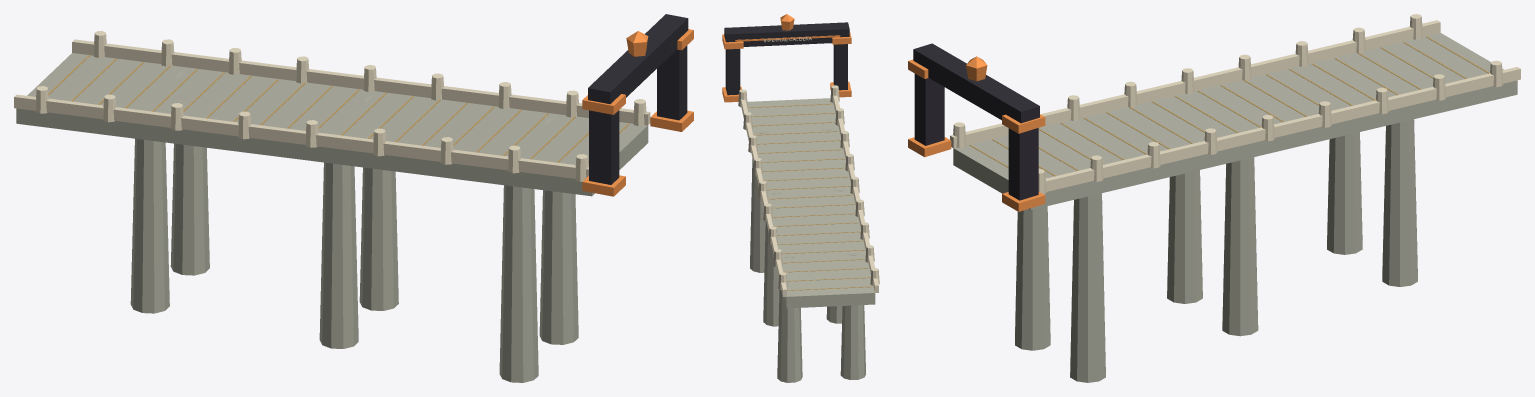
Rendered from Branch_InfernalCaldera.glb.
3 views of the same model, side by side, from view 1: azimuth 30°, elevation 25°; view 2: azimuth 150°, elevation 25°; view 3: azimuth 270°, elevation 25° (orthographic). The views are drawn at different scales.
Visible parts, largest first — view 1: Branch_InfernalCaldera_Sanctuary limestone_1_-2, Branch_InfernalCaldera_Warm ivory_1_-2, Branch_InfernalCaldera_Sanctuary limestone_1_-3, Branch_InfernalCaldera_InfernalCaldera_dark_1_-3, Branch_InfernalCaldera_InfernalCaldera_accent_1_-3, Branch_InfernalCaldera_Aged gold_1_-2, Branch_InfernalCaldera_Warm ivory_1_-3, Branch_InfernalCaldera_Warm ivory_0_-2, Branch_InfernalCaldera_Aged gold_1_-3; view 2: Branch_InfernalCaldera_Sanctuary limestone_1_-2, Branch_InfernalCaldera_InfernalCaldera_dark_1_-3, Branch_InfernalCaldera_Warm ivory_1_-2, Branch_InfernalCaldera_Aged gold_1_-2, Branch_InfernalCaldera_Sanctuary limestone_1_-3, Branch_InfernalCaldera_InfernalCaldera_accent_1_-3, Branch_InfernalCaldera_Warm ivory_1_-3, Branch_InfernalCaldera_Aged gold_1_-3, Branch_InfernalCaldera_Warm ivory_0_-2; view 3: Branch_InfernalCaldera_Sanctuary limestone_1_-2, Branch_InfernalCaldera_Warm ivory_1_-2, Branch_InfernalCaldera_Sanctuary limestone_1_-3, Branch_InfernalCaldera_InfernalCaldera_dark_1_-3, Branch_InfernalCaldera_InfernalCaldera_accent_1_-3, Branch_InfernalCaldera_Aged gold_1_-2, Branch_InfernalCaldera_Warm ivory_1_-3, Branch_InfernalCaldera_Aged gold_1_-3, Branch_InfernalCaldera_Warm ivory_0_-2.
Part boxes in pixels (x1=…): Branch_InfernalCaldera_Sanctuary limestone_1_-2: x1=16, y1=53, x2=648, y2=348; Branch_InfernalCaldera_Warm ivory_1_-2: x1=14, y1=31, x2=650, y2=178; Branch_InfernalCaldera_Sanctuary limestone_1_-3: x1=499, y1=117, x2=578, y2=382; Branch_InfernalCaldera_InfernalCaldera_dark_1_-3: x1=588, y1=14, x2=688, y2=184; Branch_InfernalCaldera_InfernalCaldera_accent_1_-3: x1=582, y1=29, x2=693, y2=196; Branch_InfernalCaldera_Aged gold_1_-2: x1=71, y1=59, x2=467, y2=145; Branch_InfernalCaldera_Warm ivory_1_-3: x1=440, y1=90, x2=646, y2=181; Branch_InfernalCaldera_Warm ivory_0_-2: x1=35, y1=86, x2=115, y2=122; Branch_InfernalCaldera_Aged gold_1_-3: x1=453, y1=106, x2=629, y2=162; Branch_InfernalCaldera_Sanctuary limestone_1_-2: x1=747, y1=98, x2=875, y2=382; Branch_InfernalCaldera_InfernalCaldera_dark_1_-3: x1=724, y1=22, x2=849, y2=95; Branch_InfernalCaldera_Warm ivory_1_-2: x1=741, y1=95, x2=878, y2=296; Branch_InfernalCaldera_Aged gold_1_-2: x1=762, y1=158, x2=870, y2=281; Branch_InfernalCaldera_Sanctuary limestone_1_-3: x1=750, y1=128, x2=832, y2=272; Branch_InfernalCaldera_InfernalCaldera_accent_1_-3: x1=722, y1=14, x2=851, y2=102; Branch_InfernalCaldera_Warm ivory_1_-3: x1=738, y1=37, x2=849, y2=148; Branch_InfernalCaldera_Aged gold_1_-3: x1=747, y1=103, x2=842, y2=153; Branch_InfernalCaldera_Warm ivory_0_-2: x1=865, y1=245, x2=879, y2=285; Branch_InfernalCaldera_Sanctuary limestone_1_-2: x1=953, y1=33, x2=1517, y2=336; Branch_InfernalCaldera_Warm ivory_1_-2: x1=950, y1=20, x2=1520, y2=191; Branch_InfernalCaldera_Sanctuary limestone_1_-3: x1=1015, y1=133, x2=1105, y2=382; Branch_InfernalCaldera_InfernalCaldera_dark_1_-3: x1=913, y1=43, x2=1039, y2=200; Branch_InfernalCaldera_InfernalCaldera_accent_1_-3: x1=908, y1=56, x2=1045, y2=211; Branch_InfernalCaldera_Aged gold_1_-2: x1=1106, y1=42, x2=1466, y2=149; Branch_InfernalCaldera_Warm ivory_1_-3: x1=953, y1=95, x2=1103, y2=194; Branch_InfernalCaldera_Aged gold_1_-3: x1=969, y1=117, x2=1147, y2=176; Branch_InfernalCaldera_Warm ivory_0_-2: x1=1352, y1=14, x2=1422, y2=53.
Bounding box in the file's own units: 108 × 77 × 130.
